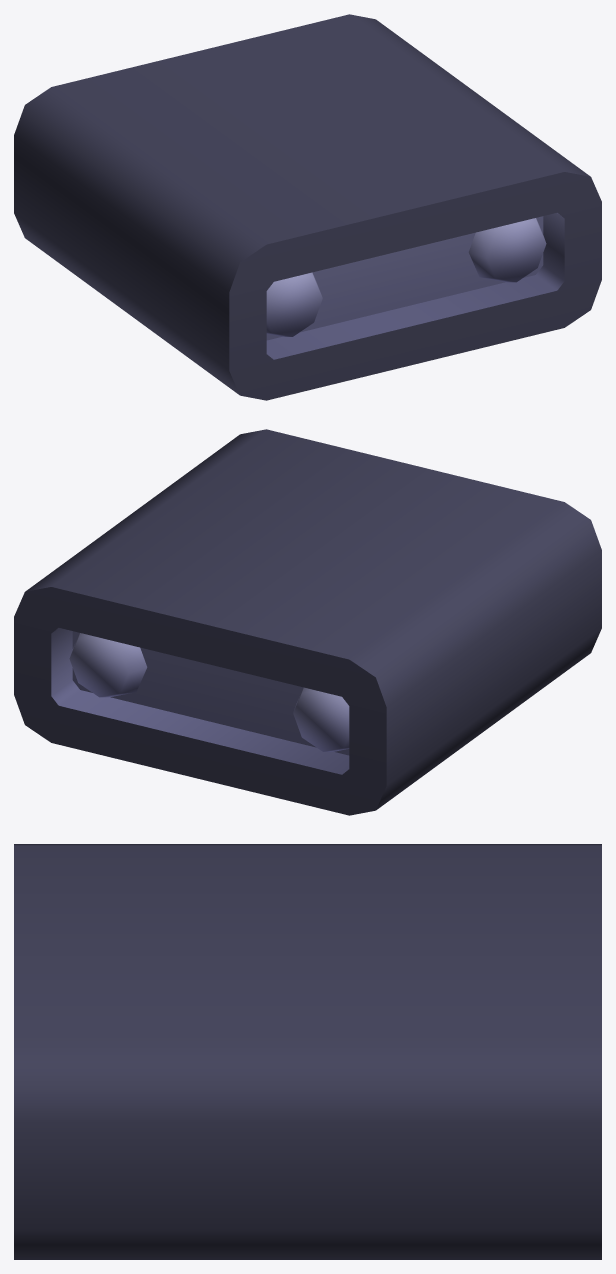
Rendered from Conveyor.glb.
3 views of the same model, one above another, from view 1: azimuth 30°, elevation 25°; view 2: azimuth 150°, elevation 25°; view 3: azimuth 270°, elevation 25° (orthographic). The views are drawn at different scales.
Parts seen in each view (by area): view 1: conveyor; view 2: conveyor; view 3: conveyor.
Part boxes in pixels (x1=…): conveyor: x1=14, y1=14, x2=601, y2=400; conveyor: x1=14, y1=429, x2=601, y2=815; conveyor: x1=14, y1=844, x2=601, y2=1259.
Bounding box in the file's own units: 1 × 0.4 × 1.
1 material, 1 textured.
